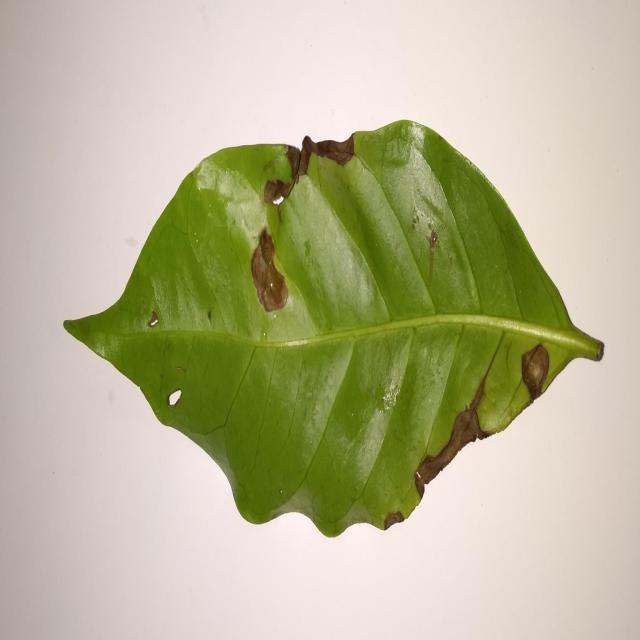Enfermedad-Antracnosis: (62, 121, 605, 541)
